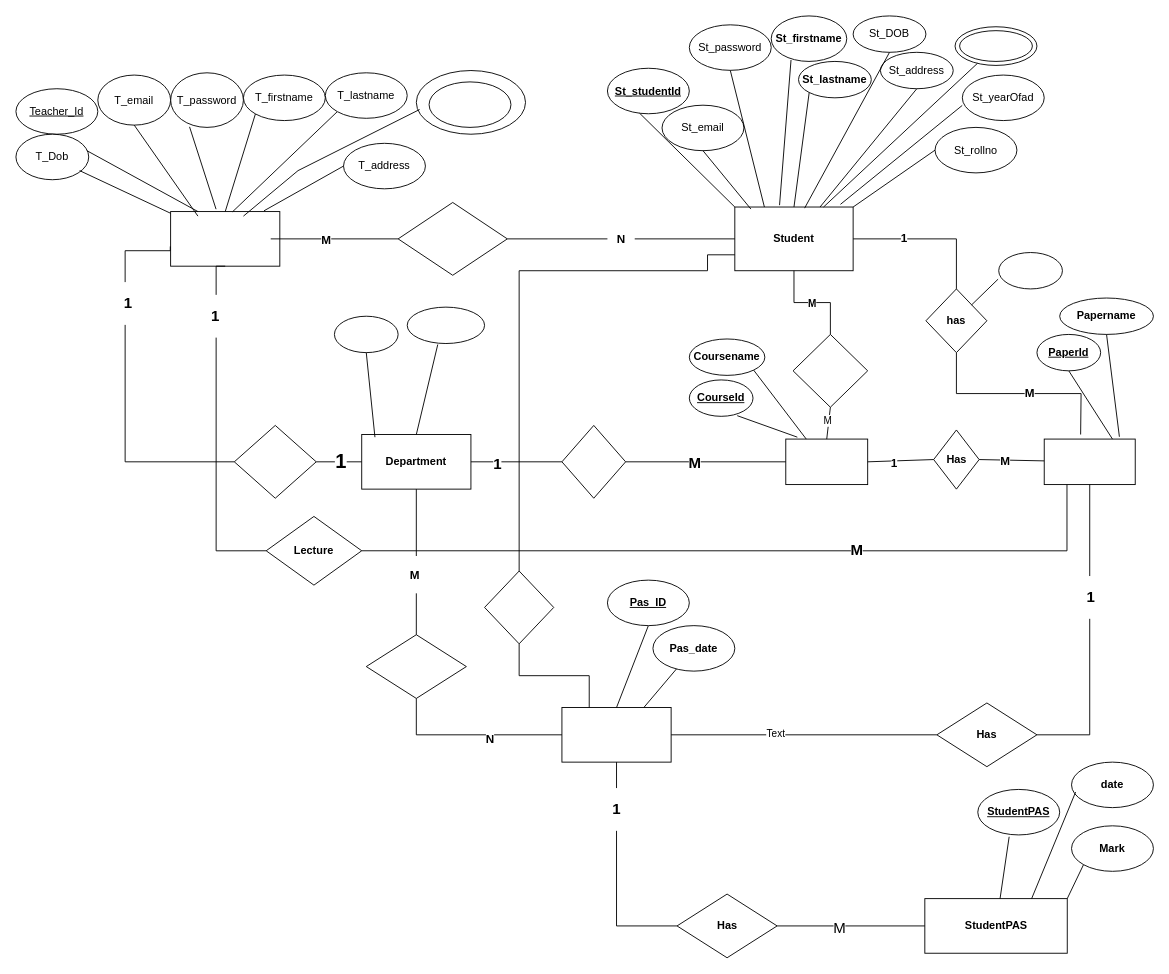
This 1169x974 diagram has some shape labels left out. The centre of each missing label's shape, as x and y in pixels:
"Belong" goes at point 274,461.
"conduct" goes at point 415,666.
"Course" goes at point 826,461.
"Dept_Id" goes at point 366,334.
"Deptname" goes at point 445,325.
"Enrolled in" goes at point 830,370.
"Offer" goes at point 593,461.
"Paper" goes at point 1089,461.
"PAS" goes at point 616,734.
"semester" goes at point 1030,270.
"St_phno" goes at point 995,45.
"T_Phno" goes at point 469,104.
"Take" goes at point 519,607.
"Teach" goes at point 452,238.
"Teacher" goes at point 225,238.
